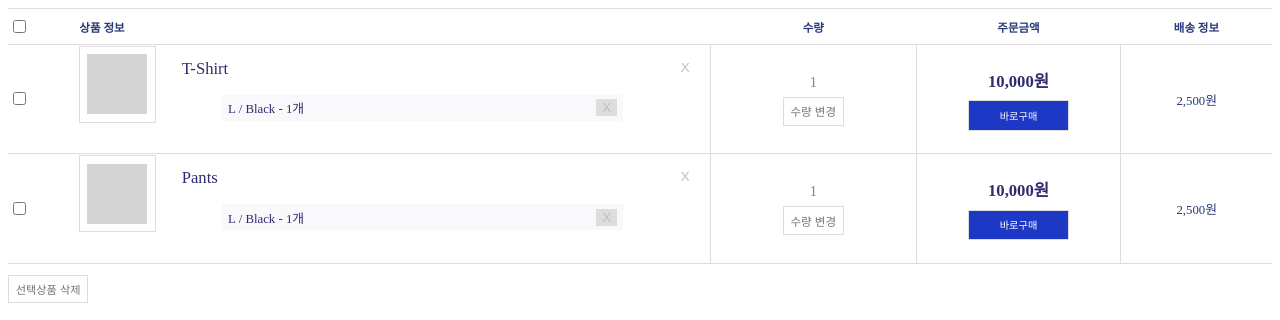
Test: CartItem › 수량 변경 버튼 › 체크박스 › 카트에 있는 모든 아이템을 체크했을 경우 › 전체선택 체크박스가 체크되어 있는 것을 볼 수 있다
Expected: the checkbox named "전체선택" next to "상품 정보" is not checked, [13,20,26,33]
Click the checkbox named "T-Shirt" below "T-Shirt": (20, 99) [13,92,26,105]
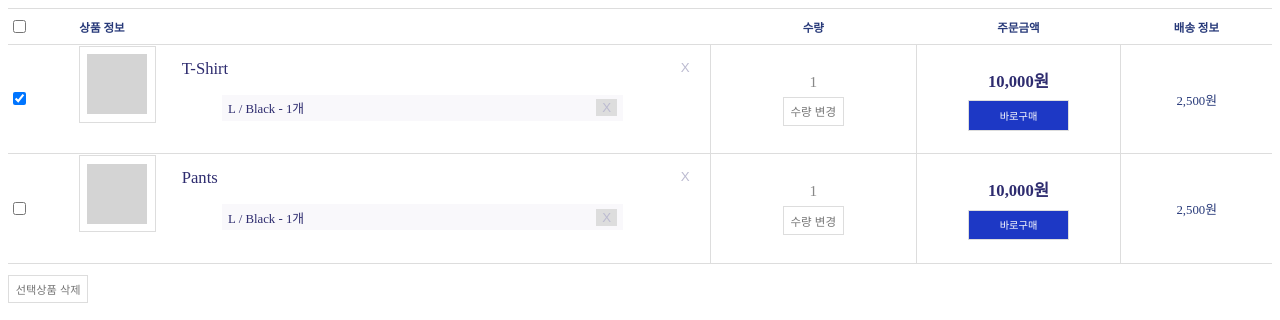
Click the checkbox named "Pants" below "Pants": (20, 208) [13,202,26,215]
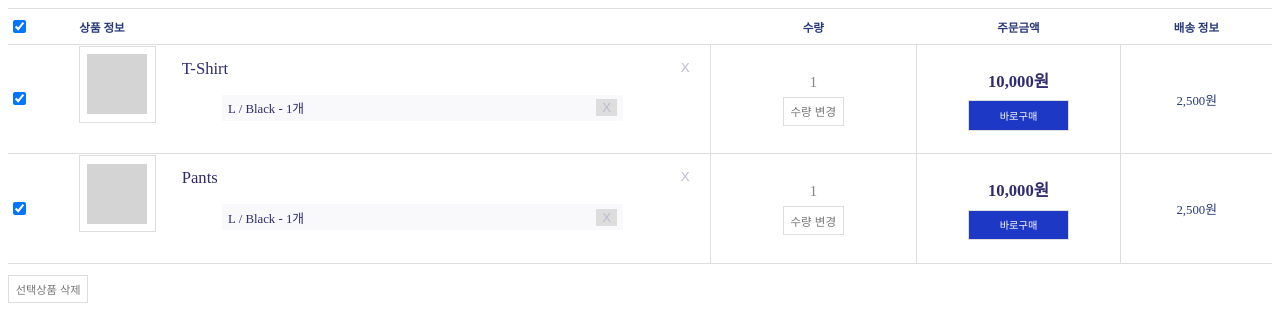
Expected: the checkbox named "전체선택" next to "상품 정보" is checked, [13,20,26,33]
